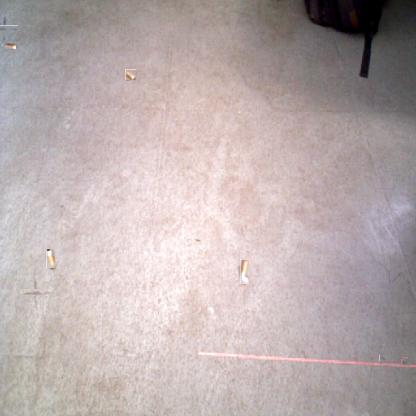dirty: (240, 259, 249, 284), (46, 248, 55, 268), (125, 69, 136, 80), (2, 42, 16, 50)
mark: (26, 282, 46, 302), (0, 20, 13, 37), (389, 270, 401, 284), (380, 355, 388, 362), (194, 236, 201, 243), (402, 358, 409, 364)
